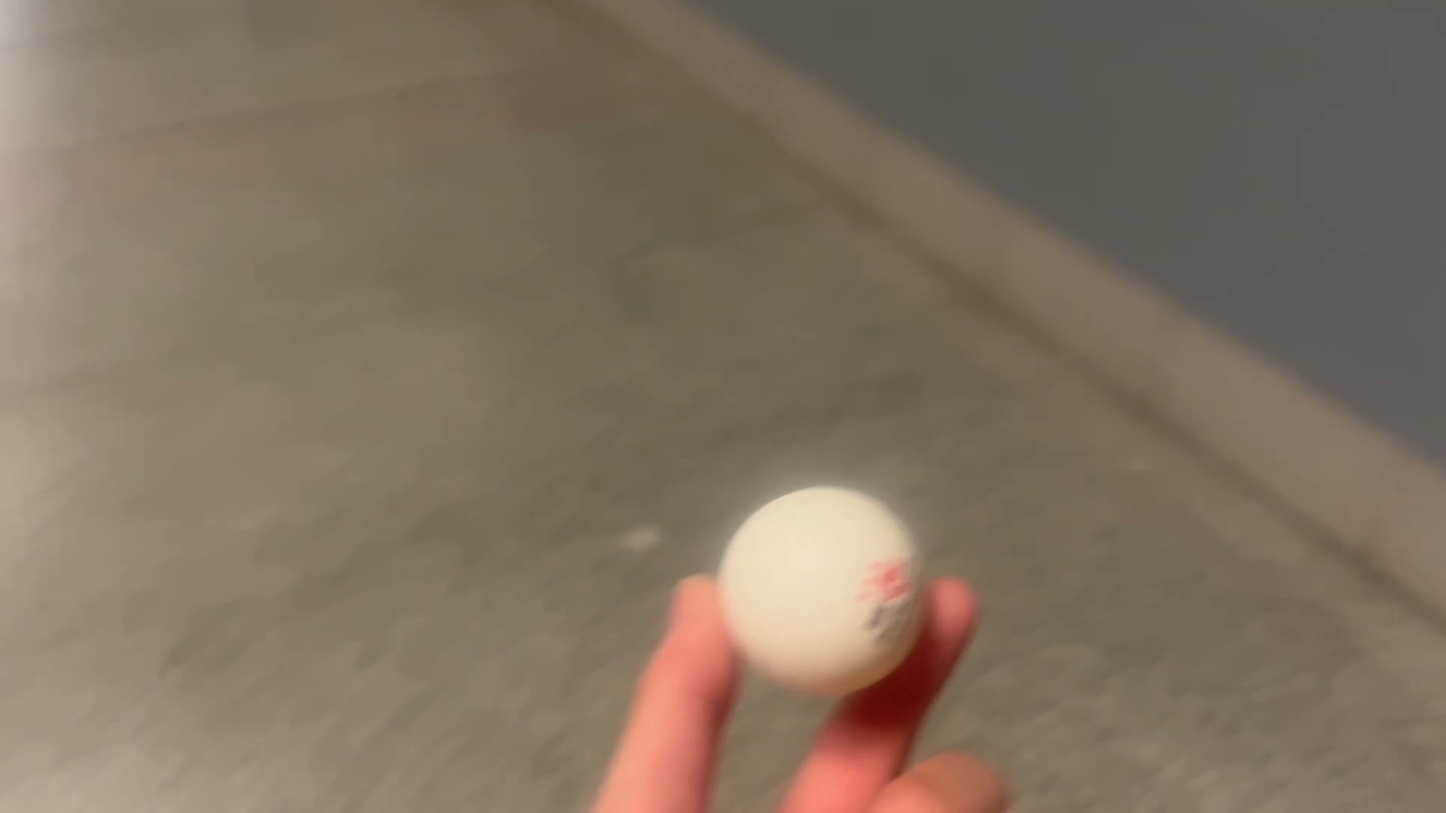Ball: (721, 479, 920, 700)
